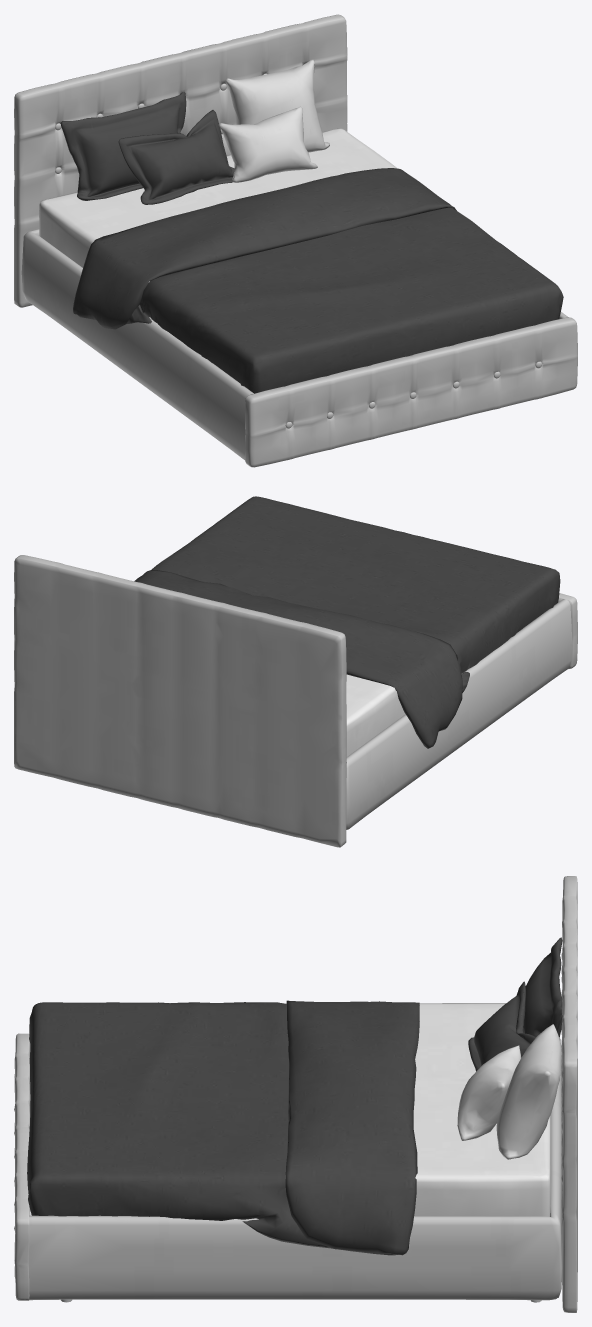
File: bed_classic_black_white_ren_viro.glb
3 views of the same model, one above another, from view 1: azimuth 30°, elevation 25°; view 2: azimuth 150°, elevation 25°; view 3: azimuth 270°, elevation 25° (orthographic). The views are drawn at different scales.
Visible parts, largest first — view 1: Classic_Bed_ClassicBed_0; view 2: Classic_Bed_ClassicBed_0; view 3: Classic_Bed_ClassicBed_0.
Part boxes in pixels (x1,y1,x2,y2): Classic_Bed_ClassicBed_0: [14, 14, 577, 467]; Classic_Bed_ClassicBed_0: [14, 496, 577, 847]; Classic_Bed_ClassicBed_0: [14, 876, 577, 1312].
Size of the model in its own units: 1879 by 1066 by 2168.
1 material, 1 textured.
